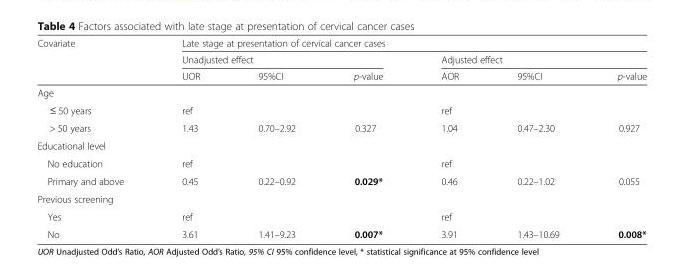table: (36, 36, 646, 239)
table column: (36, 36, 152, 239), (487, 36, 587, 239), (228, 36, 324, 239), (324, 36, 411, 239), (152, 36, 228, 239), (411, 36, 487, 239), (587, 36, 646, 239)
table column header: (36, 36, 646, 84)
table projected row header: (36, 136, 646, 154), (36, 189, 646, 207), (36, 84, 646, 100)
table row: (36, 100, 646, 118), (36, 118, 646, 136), (36, 136, 646, 154), (36, 171, 646, 189), (36, 189, 646, 207), (36, 207, 646, 225), (36, 50, 646, 67), (36, 67, 646, 84), (36, 154, 646, 171), (36, 84, 646, 100), (36, 36, 646, 50), (36, 225, 646, 239)
table spanning cell: (152, 36, 646, 50), (36, 36, 152, 84), (152, 50, 411, 67), (411, 50, 646, 67)
